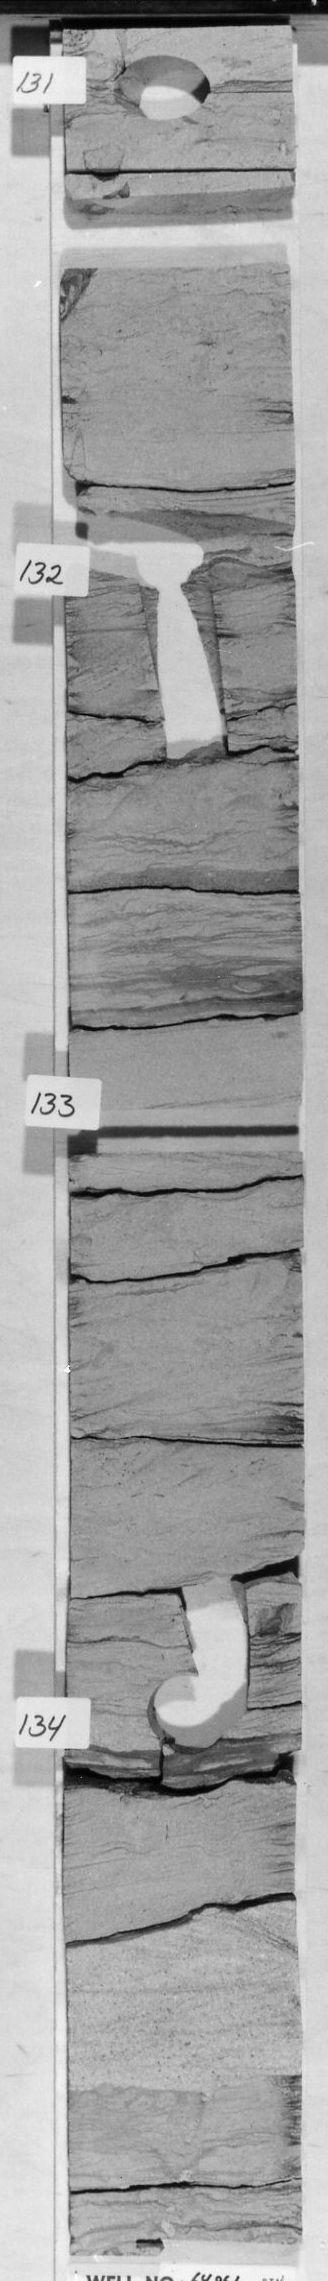hplug: (74, 500, 222, 588), (140, 1671, 236, 1760), (106, 52, 222, 121)
vplug: (134, 586, 236, 768), (171, 1578, 264, 1669)
